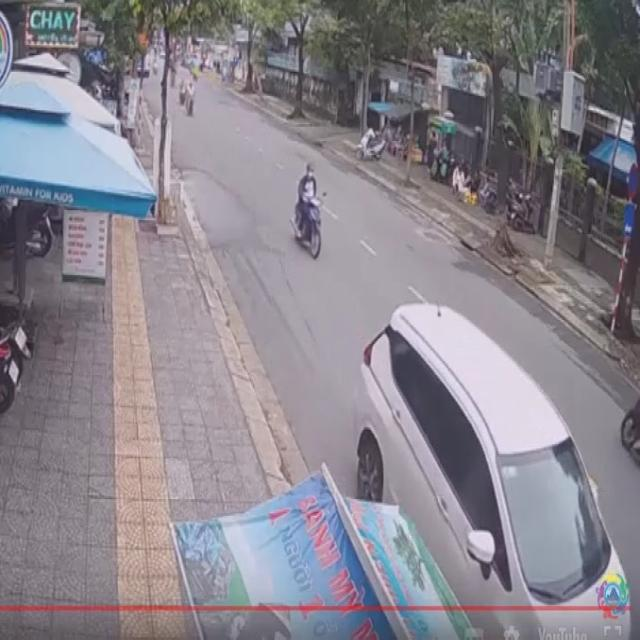car: (339, 301, 637, 640)
motorbike: (291, 156, 327, 267)
